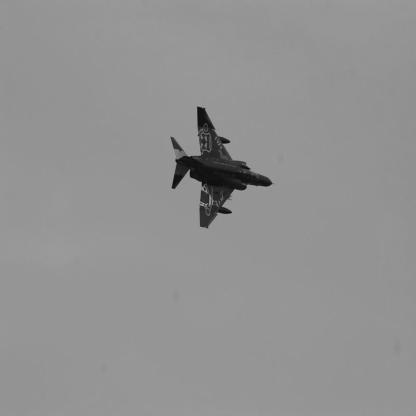F4: (171, 107, 277, 230)
